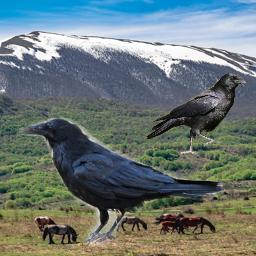Crow: (19, 117, 226, 247), (146, 72, 249, 156)
